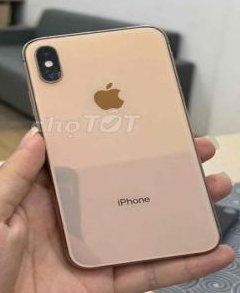scratch: (53, 70, 67, 81), (37, 67, 50, 78)
